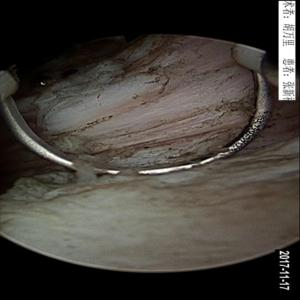film: (45, 65, 286, 158)
